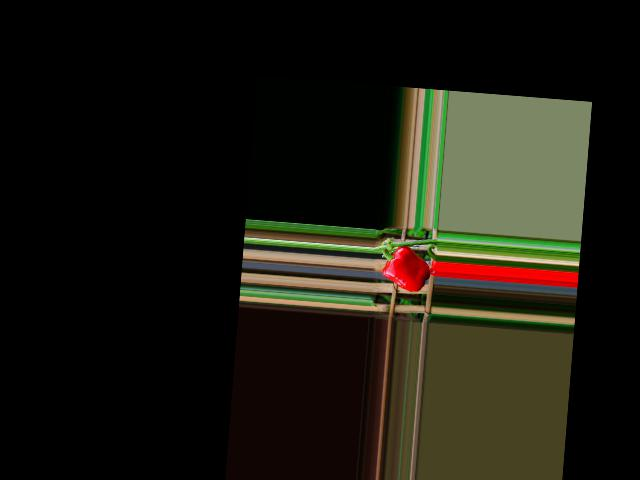bell_pepper: (380, 241, 432, 296)
